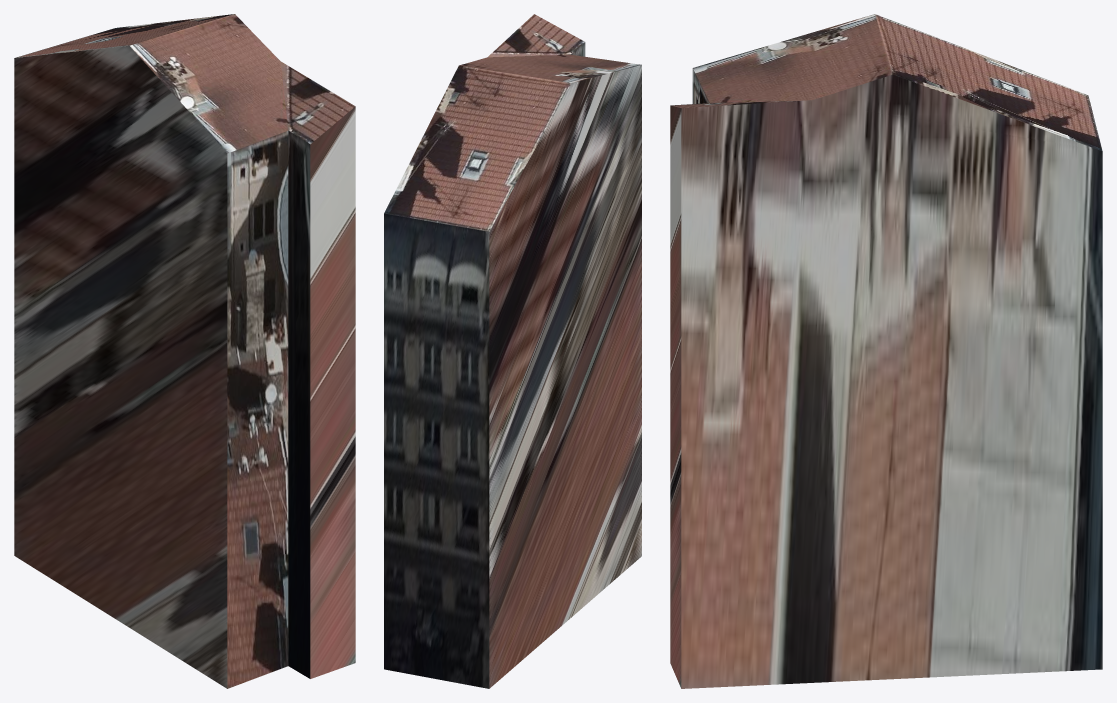
The picture shows the model from 3 angles, left to right: view 1: azimuth 30°, elevation 25°; view 2: azimuth 150°, elevation 25°; view 3: azimuth 270°, elevation 25°; orthographic projection. The views are drawn at different scales.
Visible parts, largest first — view 1: Z_UP; view 2: Z_UP; view 3: Z_UP.
Boxes of the visible parts, x1=… form: Z_UP: x1=14, y1=14, x2=355, y2=688; Z_UP: x1=384, y1=14, x2=641, y2=688; Z_UP: x1=670, y1=14, x2=1102, y2=688.
Size of the model in its own units: 7.22 by 27.49 by 17.74.
Materials: 2 (1 with a texture image).
